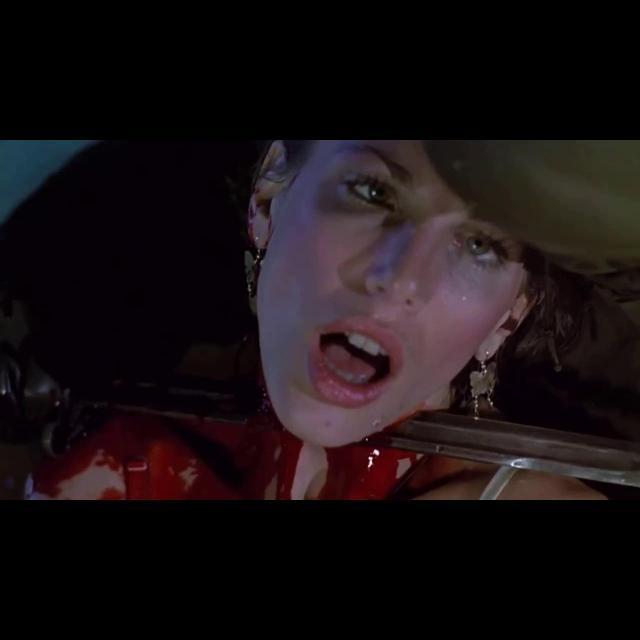blood: (28, 410, 304, 500), (316, 425, 463, 500)
